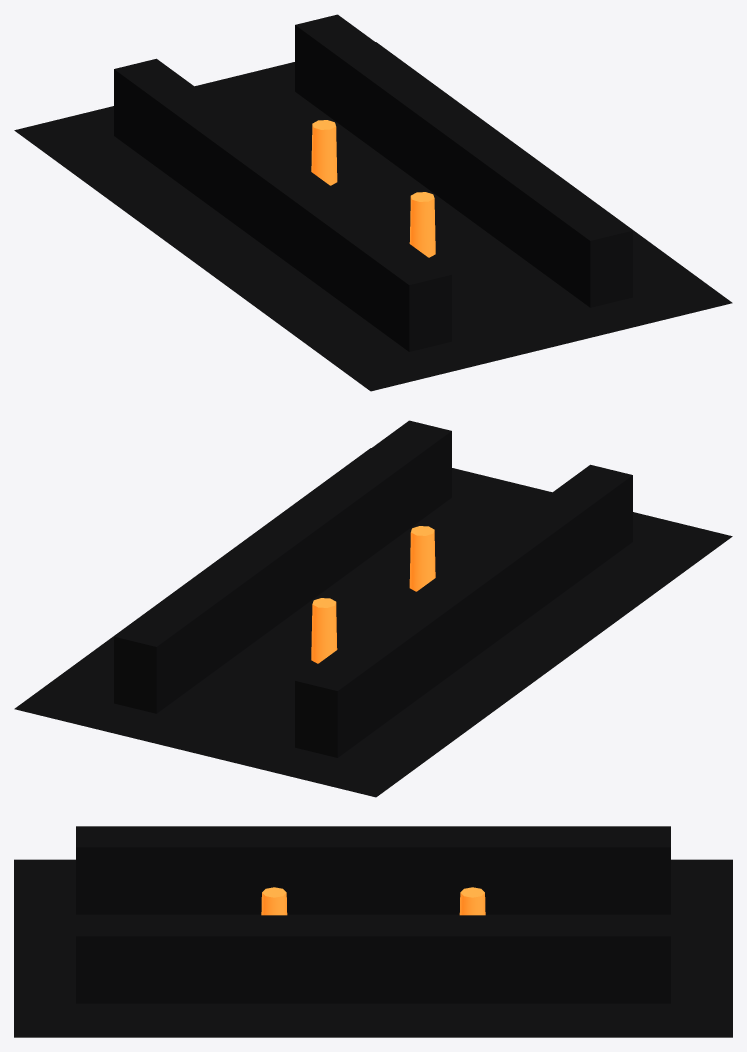
3 views of the same model, one above another, from view 1: azimuth 30°, elevation 25°; view 2: azimuth 150°, elevation 25°; view 3: azimuth 270°, elevation 25° (orthographic).
Parts seen in each view (by area): view 1: LT_02, scenario_base_floor; view 2: LT_02, scenario_base_floor; view 3: LT_02, scenario_base_floor.
Boxes of the visible parts, box(x1,y1,x2,y2) form: LT_02: box(114, 14, 632, 351); scenario_base_floor: box(14, 42, 732, 391); LT_02: box(114, 420, 632, 757); scenario_base_floor: box(14, 448, 732, 797); LT_02: box(76, 826, 670, 1003); scenario_base_floor: box(14, 859, 732, 1037).
Bounding box in the file's own units: 34 × 6 × 58.
